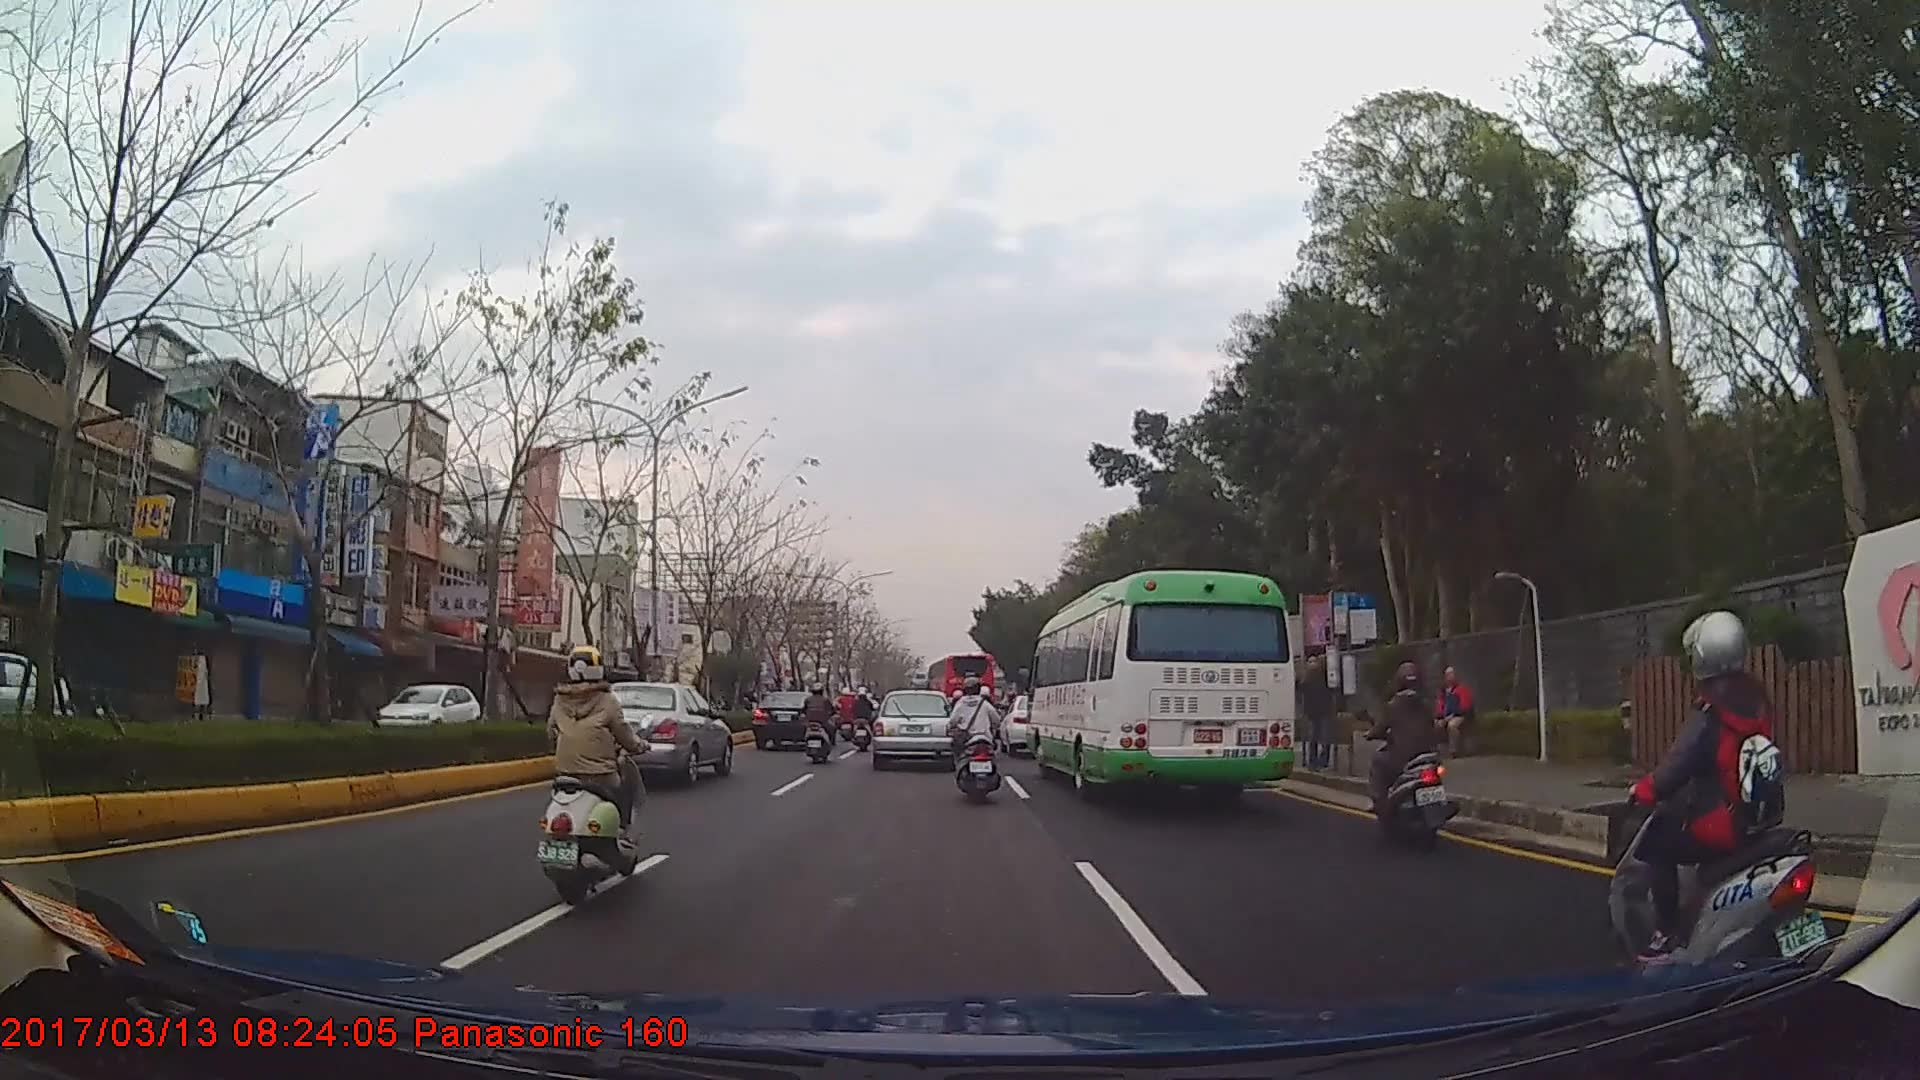pedestrian: (1421, 666, 1477, 761), (1300, 651, 1338, 775)
rider: (1604, 609, 1823, 1015), (534, 637, 634, 913), (1367, 652, 1461, 853), (947, 675, 1002, 801), (803, 681, 839, 764), (852, 685, 875, 752), (838, 686, 860, 742)
vehicle: (1023, 569, 1294, 800), (569, 679, 730, 787), (0, 643, 75, 747), (367, 676, 485, 739), (870, 687, 958, 766), (751, 688, 837, 752), (927, 648, 996, 718)
